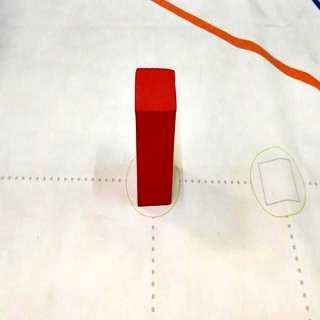redbox: (134, 67, 176, 208)
